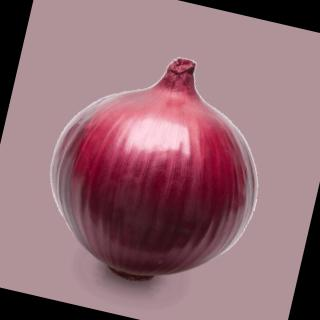Bawang Merah: (27, 31, 289, 308)
